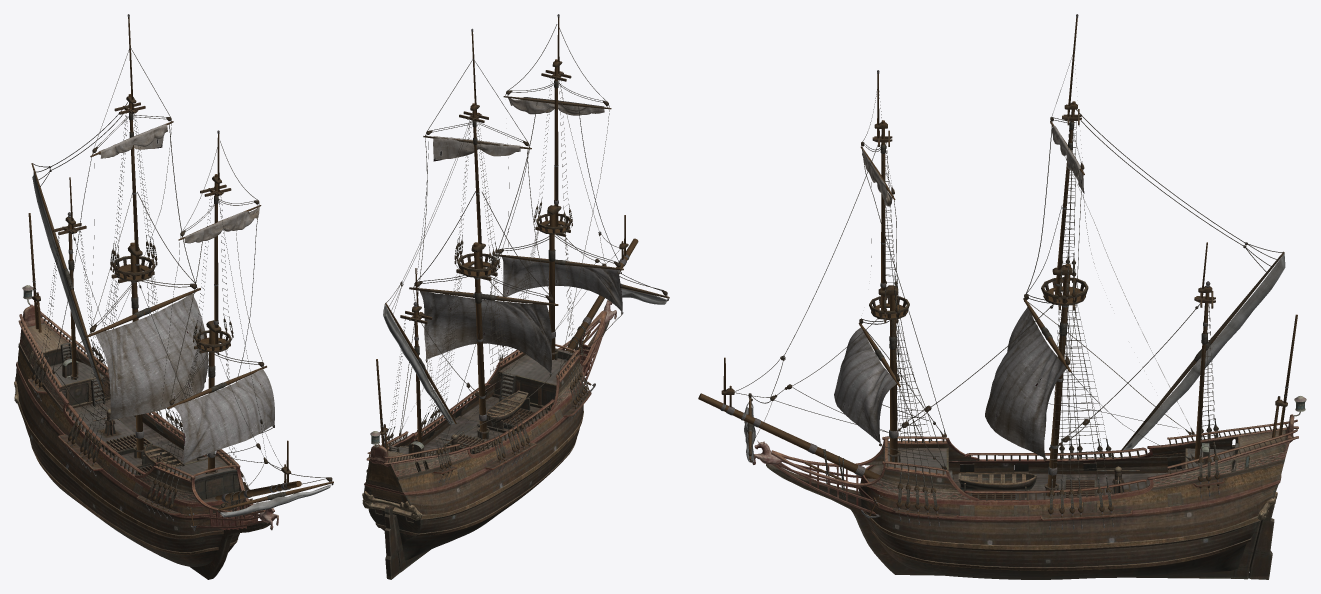
3 renders of one model, left to right at view 1: azimuth 30°, elevation 25°; view 2: azimuth 150°, elevation 25°; view 3: azimuth 270°, elevation 25°, orthographic. The views are drawn at different scales.
Visible parts, largest first — view 1: dutch_ship_medium_hull, dutch_ship_medium_rigging, dutch_ship_medium_sails; view 2: dutch_ship_medium_hull, dutch_ship_medium_rigging, dutch_ship_medium_sails; view 3: dutch_ship_medium_hull, dutch_ship_medium_rigging, dutch_ship_medium_sails.
Part boxes in pixels (x1,y1,x2,y2): dutch_ship_medium_hull: (14, 285, 278, 579); dutch_ship_medium_rigging: (28, 14, 333, 531); dutch_ship_medium_sails: (95, 124, 274, 462); dutch_ship_medium_hull: (362, 300, 616, 579); dutch_ship_medium_rigging: (376, 14, 669, 482); dutch_ship_medium_sails: (420, 97, 622, 372); dutch_ship_medium_hull: (752, 396, 1306, 579); dutch_ship_medium_rigging: (698, 14, 1297, 529); dutch_ship_medium_sails: (834, 126, 1084, 457).
Bounding box in the file's own units: 6.81 × 24.65 × 24.06.
3 materials, 3 textured.
